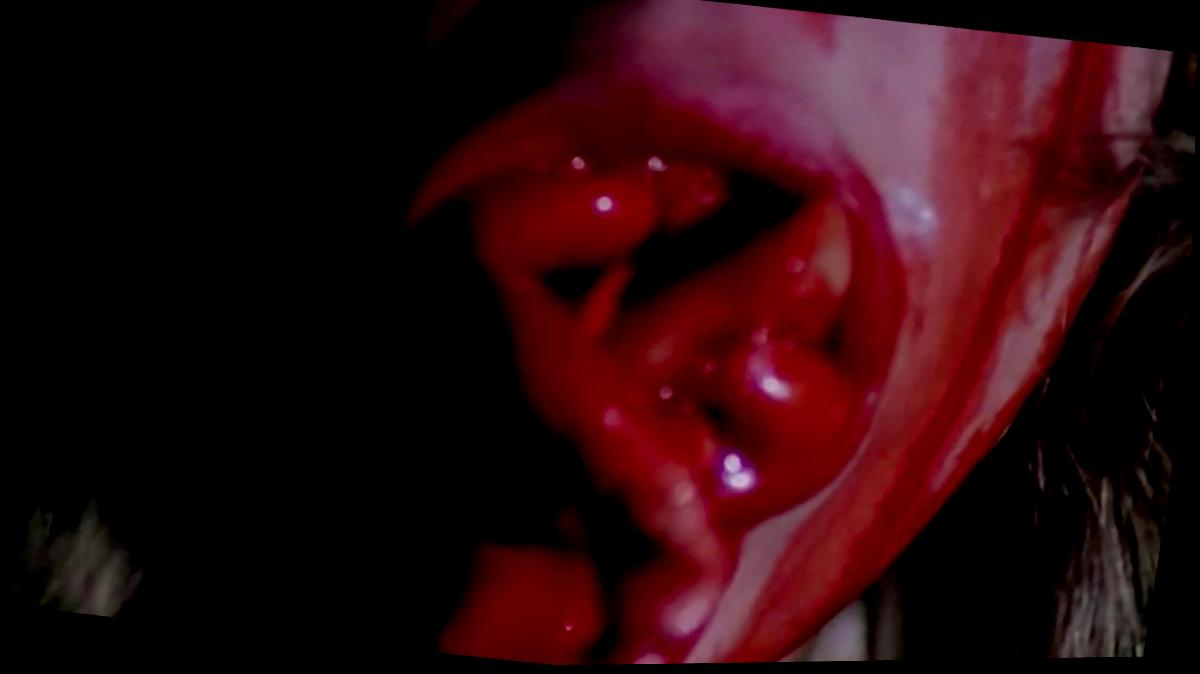Fire: (299, 0, 1173, 667)
